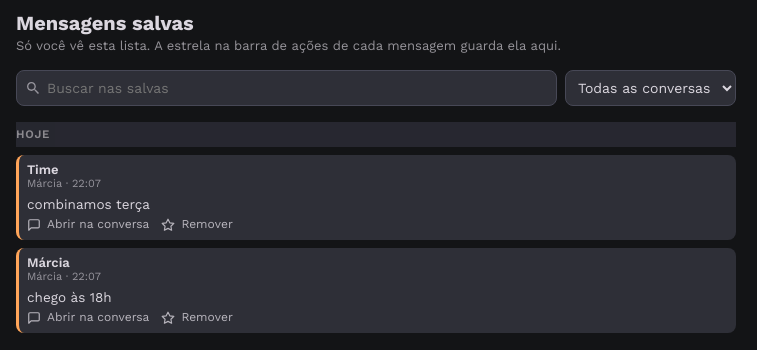
Test: Saved · busca, filtro e agrupamento › filtra por conversa
Select "Márcia" in the dropdown named "Filtrar por conversa" at (650,88), box [565, 70, 736, 106]
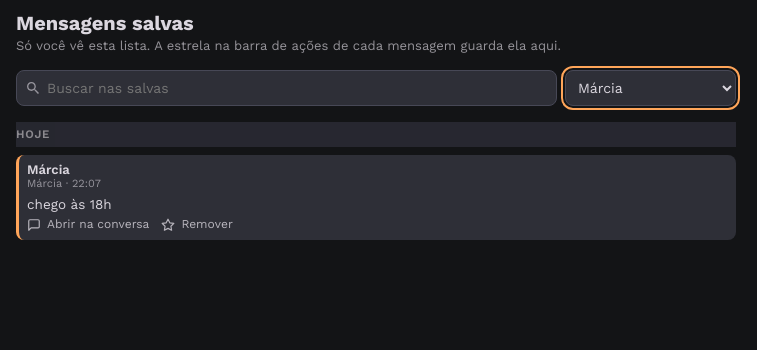
Expected: the text "chego às 18h" is shown, [27, 196, 112, 212]
Now the text "combinamos terça" is gone
